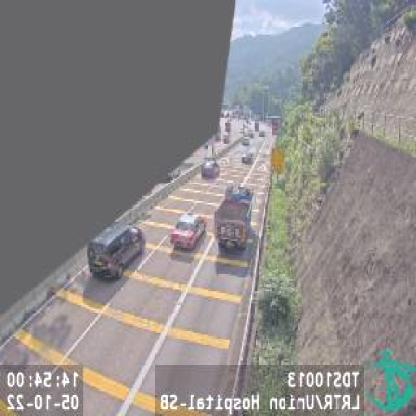Car: (90, 220, 144, 279), (170, 213, 207, 248), (200, 158, 220, 175), (242, 151, 255, 161)
Truck: (216, 184, 253, 250)
